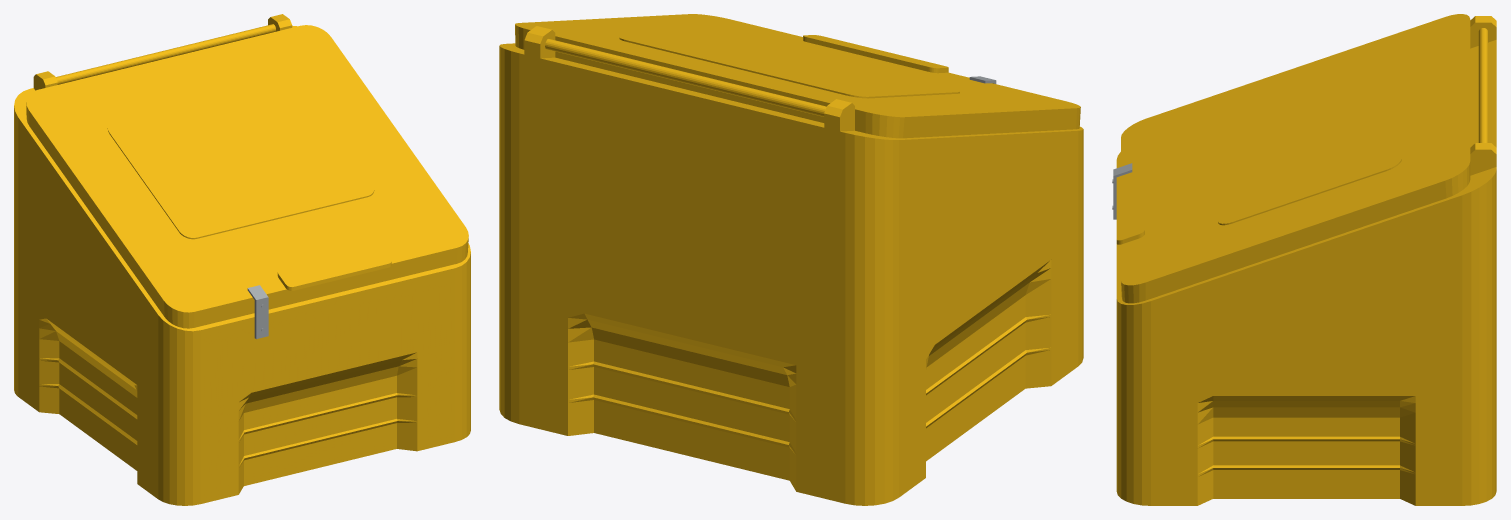
3 views of the same model, side by side, from view 1: azimuth 30°, elevation 25°; view 2: azimuth 150°, elevation 25°; view 3: azimuth 270°, elevation 25° (orthographic). The views are drawn at different scales.
Visible parts, largest first — view 1: 01_Closed_molded_body_with_four_corner_feet_and_real_recesse, 02_Thick_closed_sloping_hinged_lid, 03_Shallow_raised_molded_lid_panel, 04_Front_overhanging_lifting_lip, 06_Rear_hinge_axis, 07_Off_center_bent_metal_hasp; view 2: 01_Closed_molded_body_with_four_corner_feet_and_real_recesse, 02_Thick_closed_sloping_hinged_lid, 03_Shallow_raised_molded_lid_panel, 06_Rear_hinge_axis, 04_Front_overhanging_lifting_lip, 05_left_raised_rear_hinge_support, 05_right_raised_rear_hinge_support; view 3: 01_Closed_molded_body_with_four_corner_feet_and_real_recesse, 02_Thick_closed_sloping_hinged_lid, 03_Shallow_raised_molded_lid_panel, 04_Front_overhanging_lifting_lip, 06_Rear_hinge_axis, 05_right_raised_rear_hinge_support, 05_left_raised_rear_hinge_support.
Part boxes in pixels (x1,y1,x2,y2): 01_Closed_molded_body_with_four_corner_feet_and_real_recesse: (14,26,470,505); 02_Thick_closed_sloping_hinged_lid: (26,25,468,328); 03_Shallow_raised_molded_lid_panel: (107,79,374,239); 04_Front_overhanging_lifting_lip: (277,245,391,290); 06_Rear_hinge_axis: (56,24,275,84); 07_Off_center_bent_metal_hasp: (247,285,268,339); 01_Closed_molded_body_with_four_corner_feet_and_real_recesse: (499,43,1083,505); 02_Thick_closed_sloping_hinged_lid: (515,14,1080,138); 03_Shallow_raised_molded_lid_panel: (619,32,959,98); 06_Rear_hinge_axis: (545,39,826,116); 04_Front_overhanging_lifting_lip: (803,35,948,73); 05_left_raised_rear_hinge_support: (824,99,854,131); 05_right_raised_rear_hinge_support: (524,26,555,58); 01_Closed_molded_body_with_four_corner_feet_and_real_recesse: (1116,40,1496,505); 02_Thick_closed_sloping_hinged_lid: (1121,14,1470,303); 03_Shallow_raised_molded_lid_panel: (1218,63,1401,225); 04_Front_overhanging_lifting_lip: (1116,176,1144,244); 06_Rear_hinge_axis: (1478,28,1487,142); 05_right_raised_rear_hinge_support: (1470,143,1496,175); 05_left_raised_rear_hinge_support: (1470,16,1496,48).
Size of the model in its own units: 0.75 by 0.71 by 0.728.
